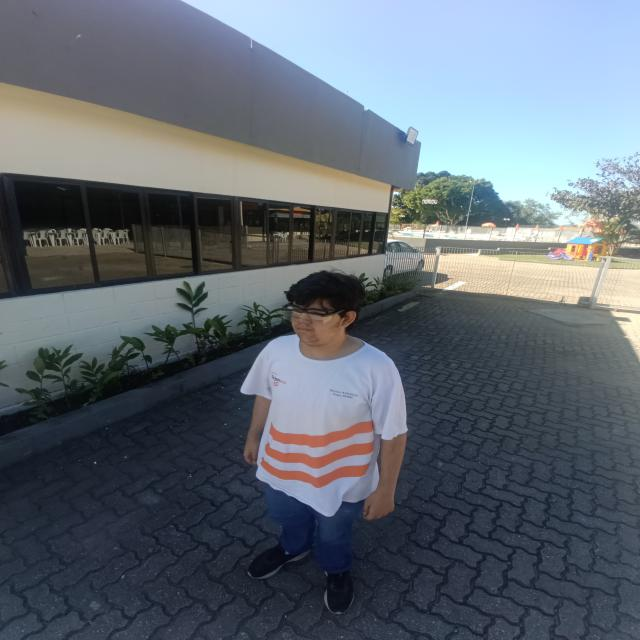oculos-epi: (281, 304, 339, 322)
